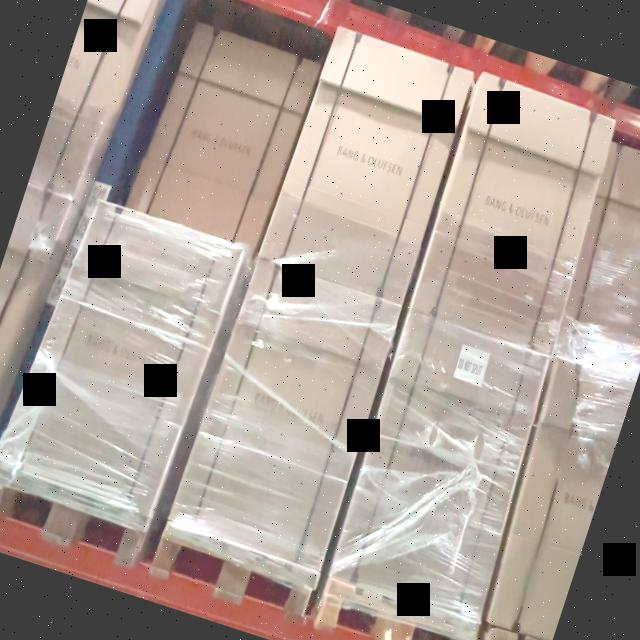box: (12, 205, 235, 508), (179, 266, 403, 563), (328, 320, 548, 620), (264, 32, 475, 306), (412, 79, 620, 352)
